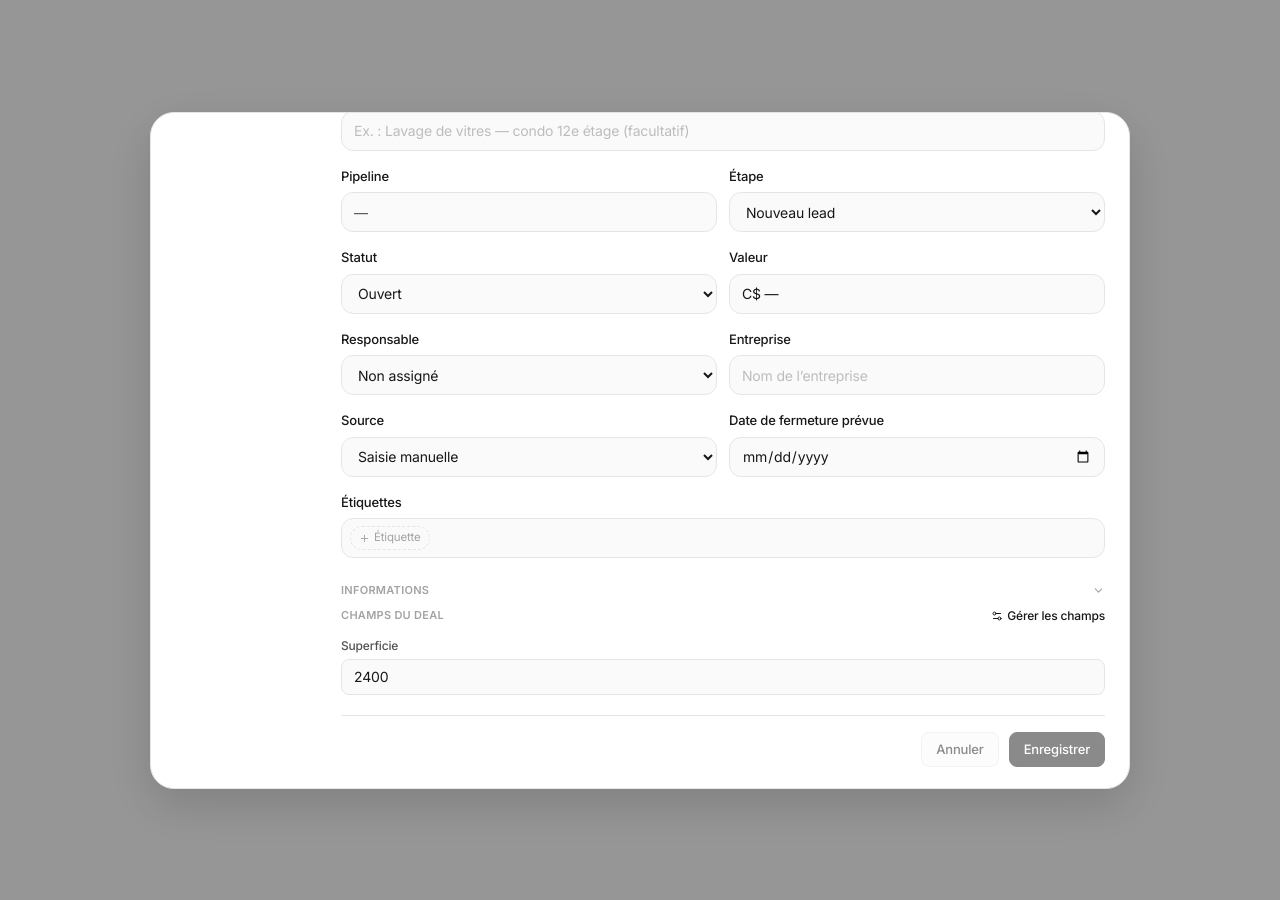
Test: fiche du deal — section « Informations » dans l’onglet qui s’ouvre › se replie et se déplie
(page scrolled)
Click the button "Informations" at (385, 590), box [341, 582, 1105, 598]
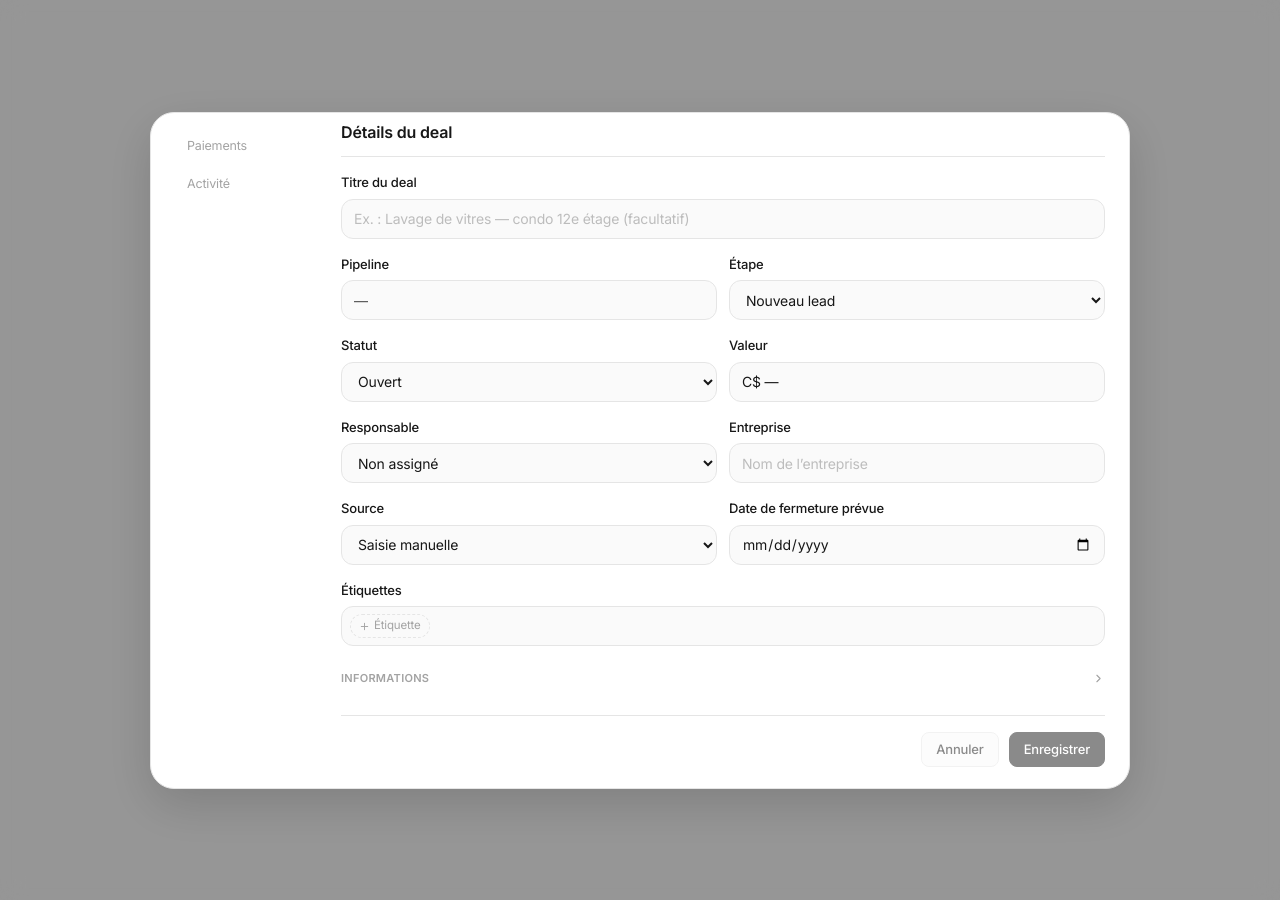
Now the button "Informations" is collapsed, box [341, 670, 1105, 686]
